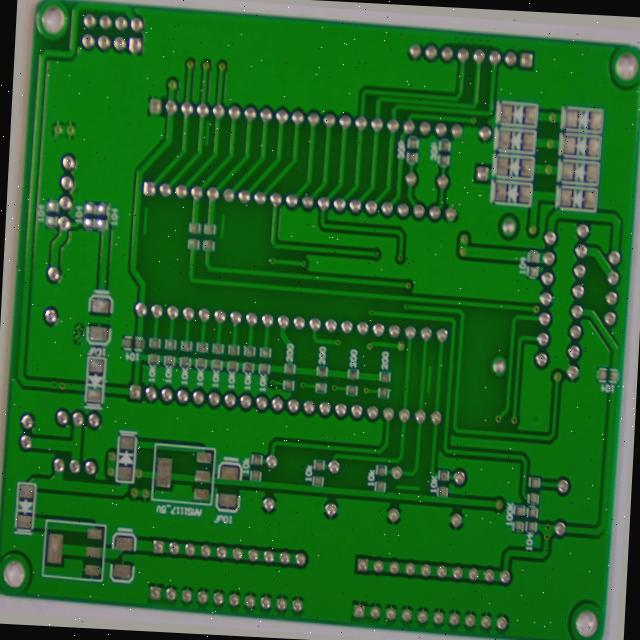spurious_copper: (424, 356, 437, 398), (395, 481, 426, 497), (134, 203, 146, 240), (195, 115, 208, 149), (212, 209, 225, 241)
